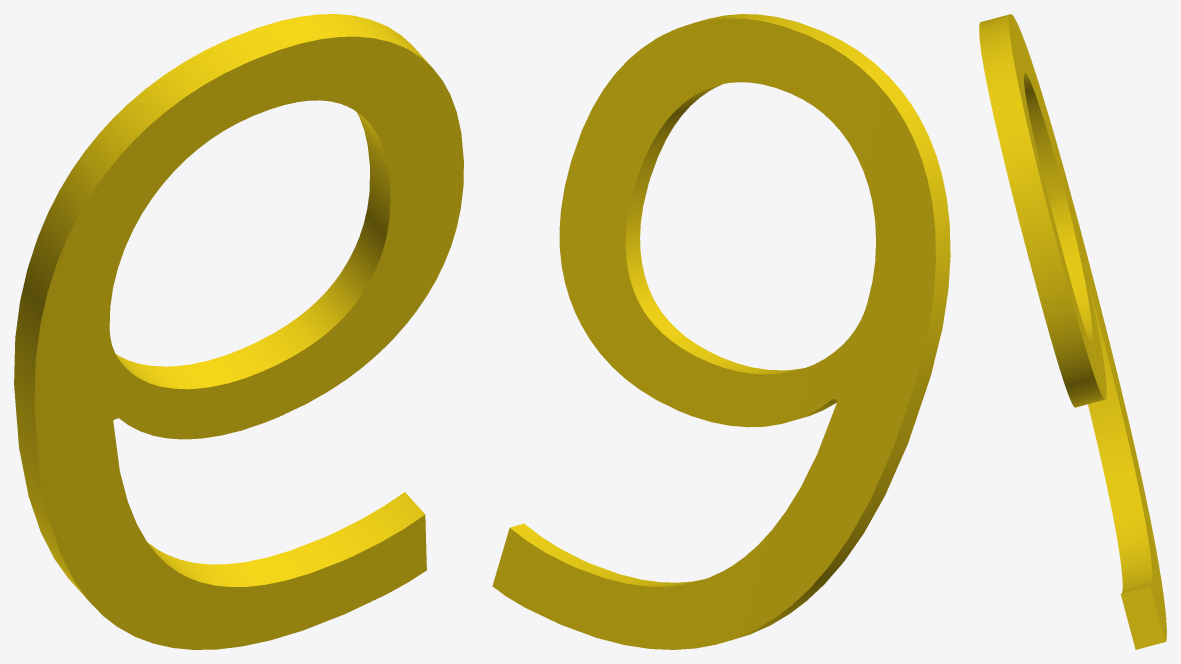
The model's file is Number_9.gltf.
3 views of the same model, side by side, from view 1: azimuth 30°, elevation 25°; view 2: azimuth 150°, elevation 25°; view 3: azimuth 270°, elevation 25° (orthographic). The views are drawn at different scales.
Visible parts, largest first — view 1: Sub_5_Cell_3_1_Number_9; view 2: Sub_5_Cell_3_1_Number_9; view 3: Sub_5_Cell_3_1_Number_9.
Boxes of the visible parts, x1,y1,x2,y2 form: Sub_5_Cell_3_1_Number_9: [14, 14, 463, 649]; Sub_5_Cell_3_1_Number_9: [492, 14, 950, 649]; Sub_5_Cell_3_1_Number_9: [979, 14, 1166, 649].
Size of the model in its own units: 0.0172 by 0.0249 by 0.00771.
